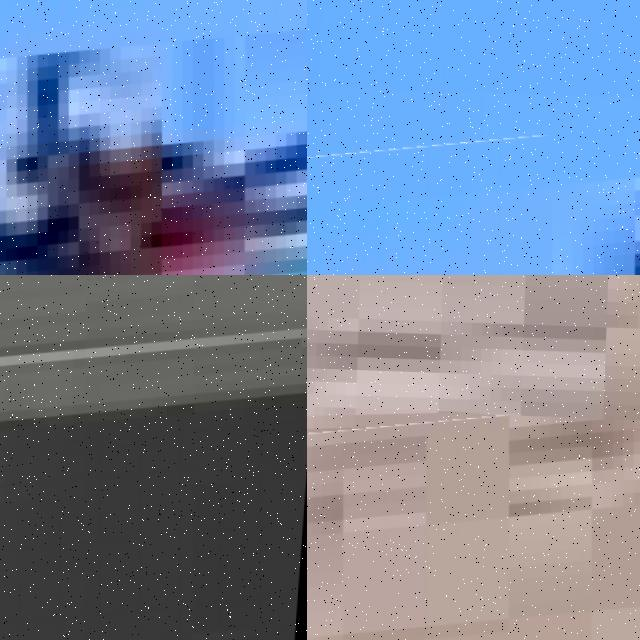drone: (0, 275, 307, 640), (0, 0, 307, 275), (307, 406, 640, 640), (307, 126, 640, 275)
